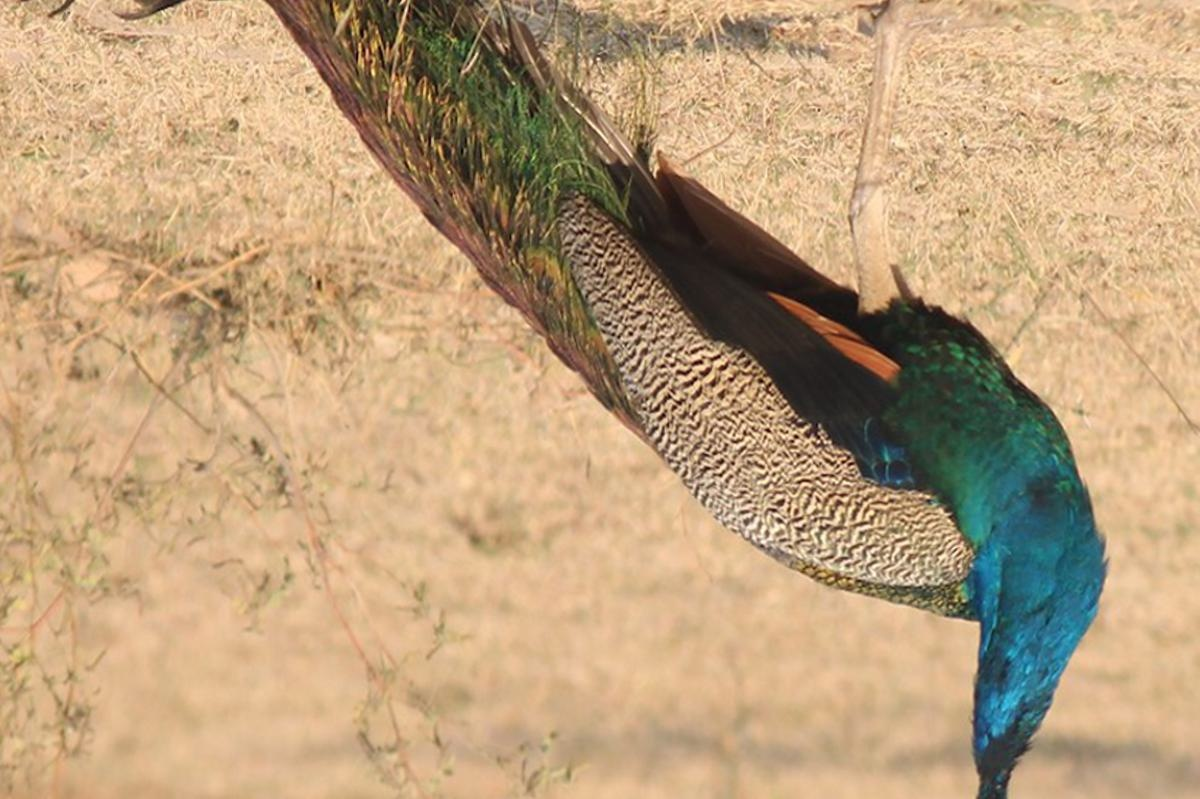peacock: (333, 1, 1107, 775)
